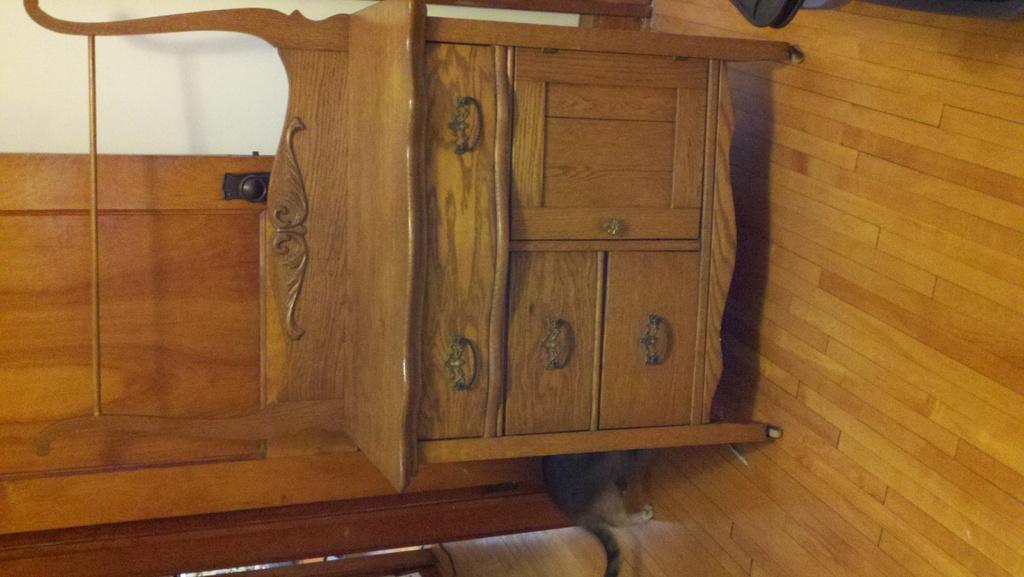door: (8, 159, 302, 509)
handle: (236, 172, 270, 209)
